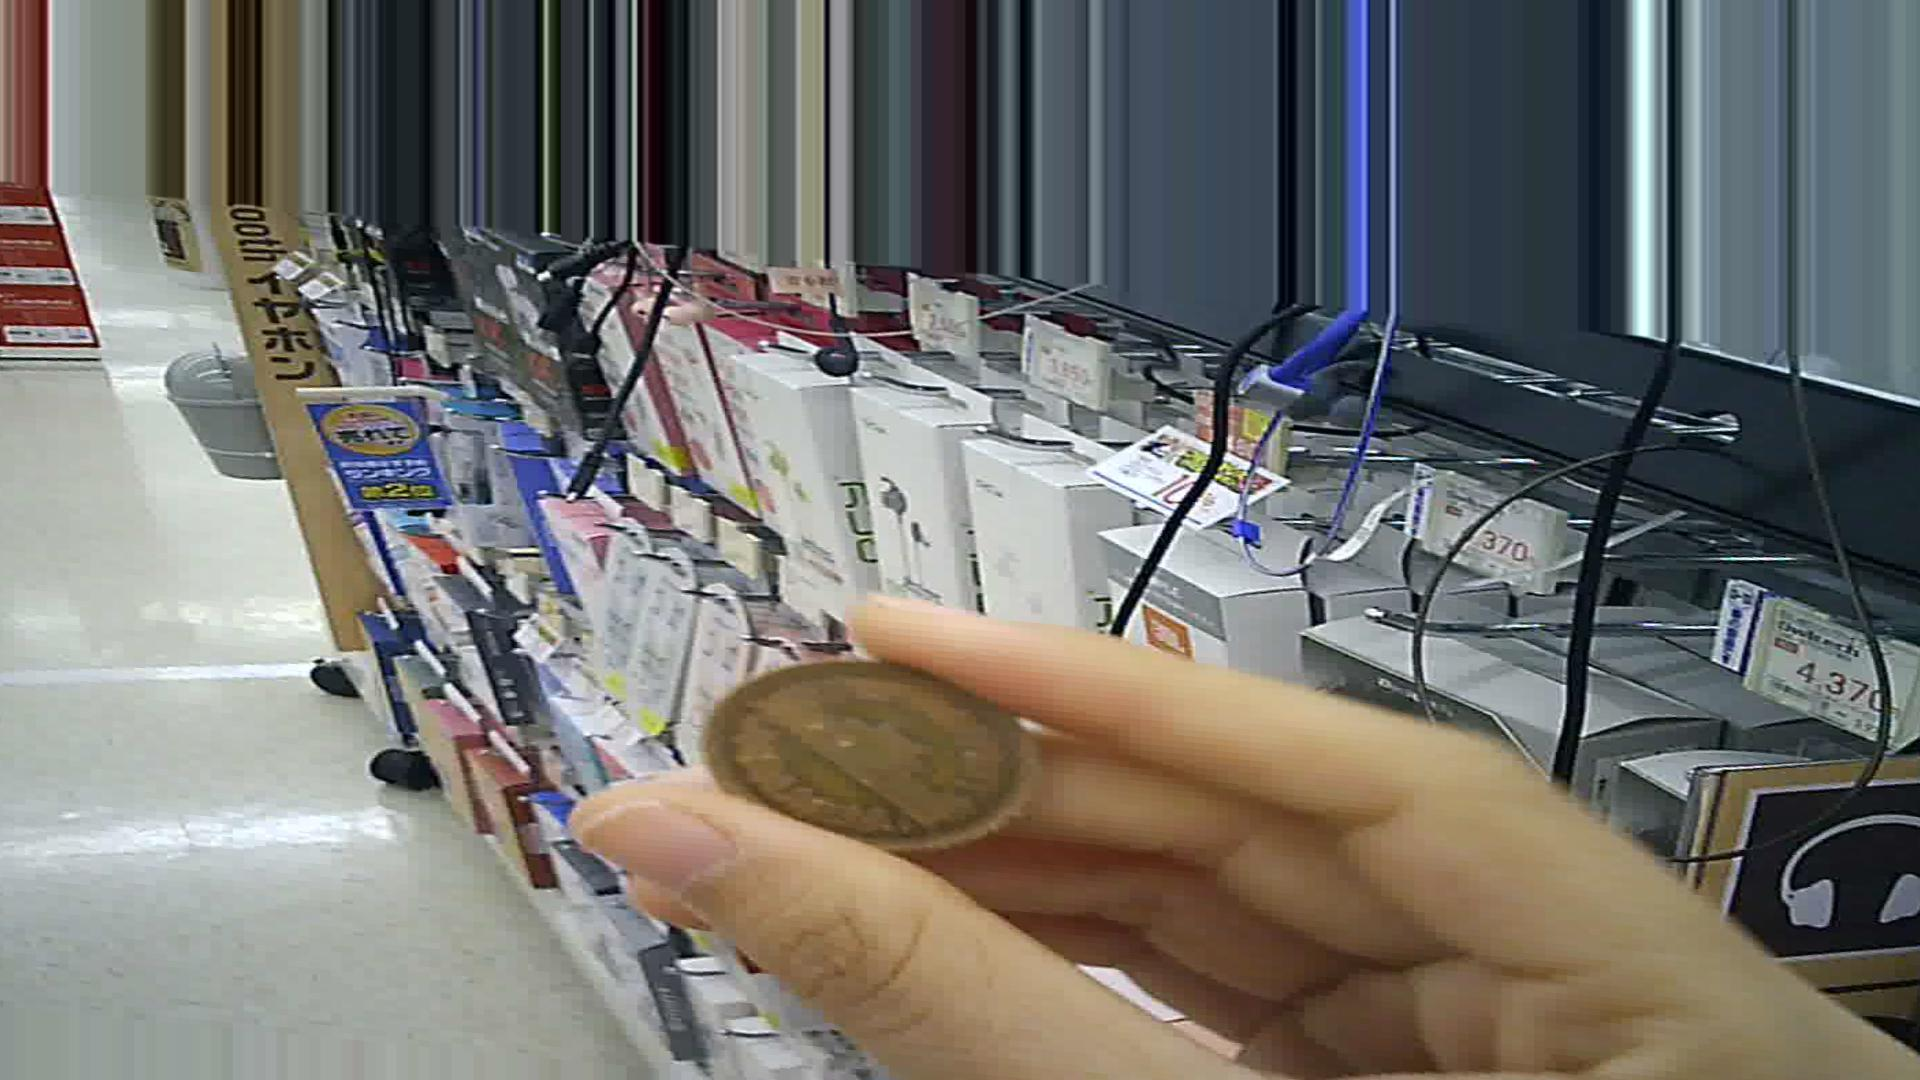10 Yen: (694, 633, 1048, 865)
